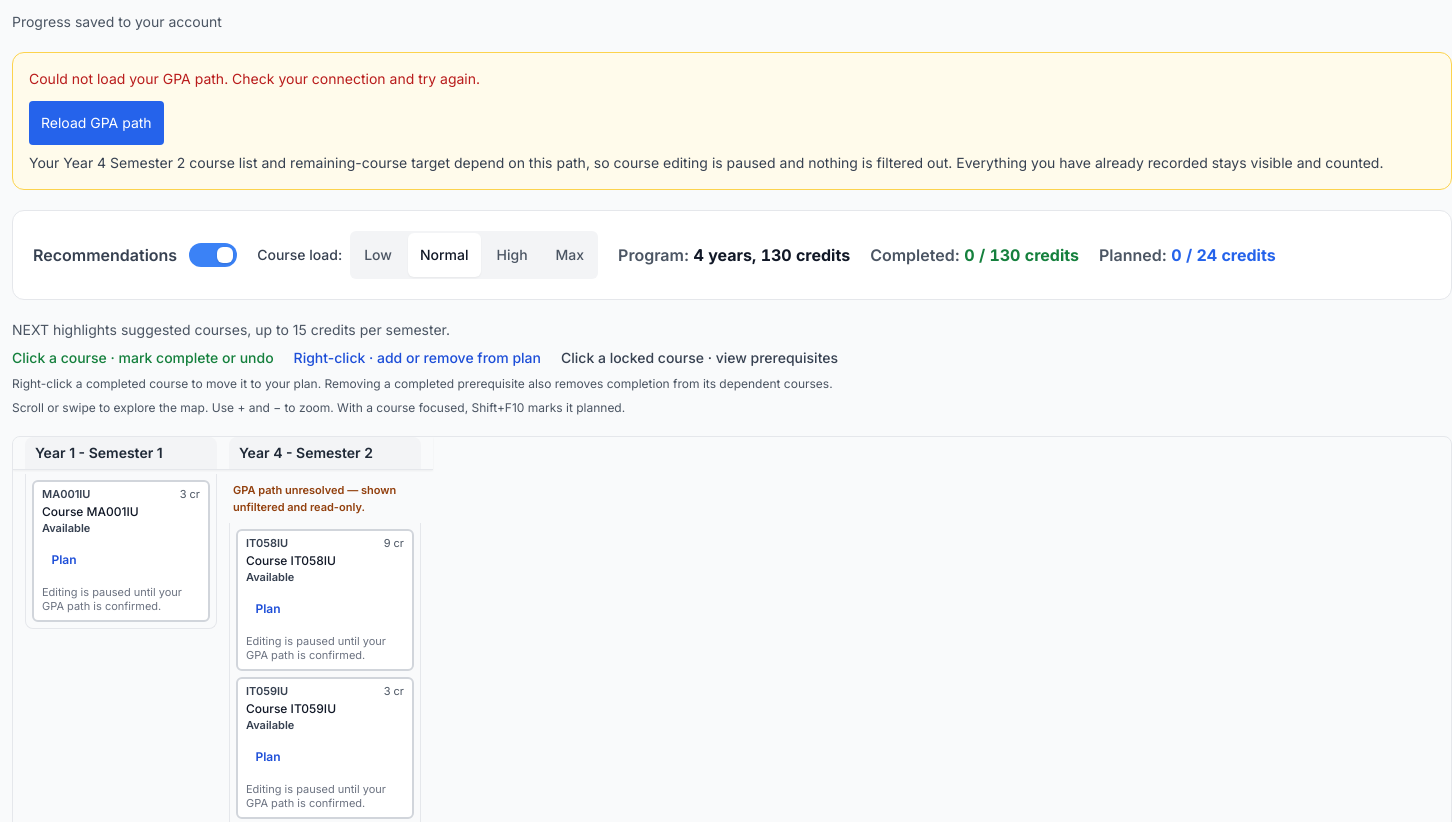
Test: server GPA policy in the curriculum map › requires a successful GPA reload after failure before allowing edits
This screenshot has width=1452, height=822.
Expected: the message "Could not load your GPA path. Check your connection and try again." is shown, x1=29 y1=70 x2=480 y2=87
Expected: the text "MA001IU" is shown, x1=42 y1=488 x2=90 y2=502
Click the button "Reload GPA path" at (96, 123), box x1=29 y1=101 x2=164 y2=145
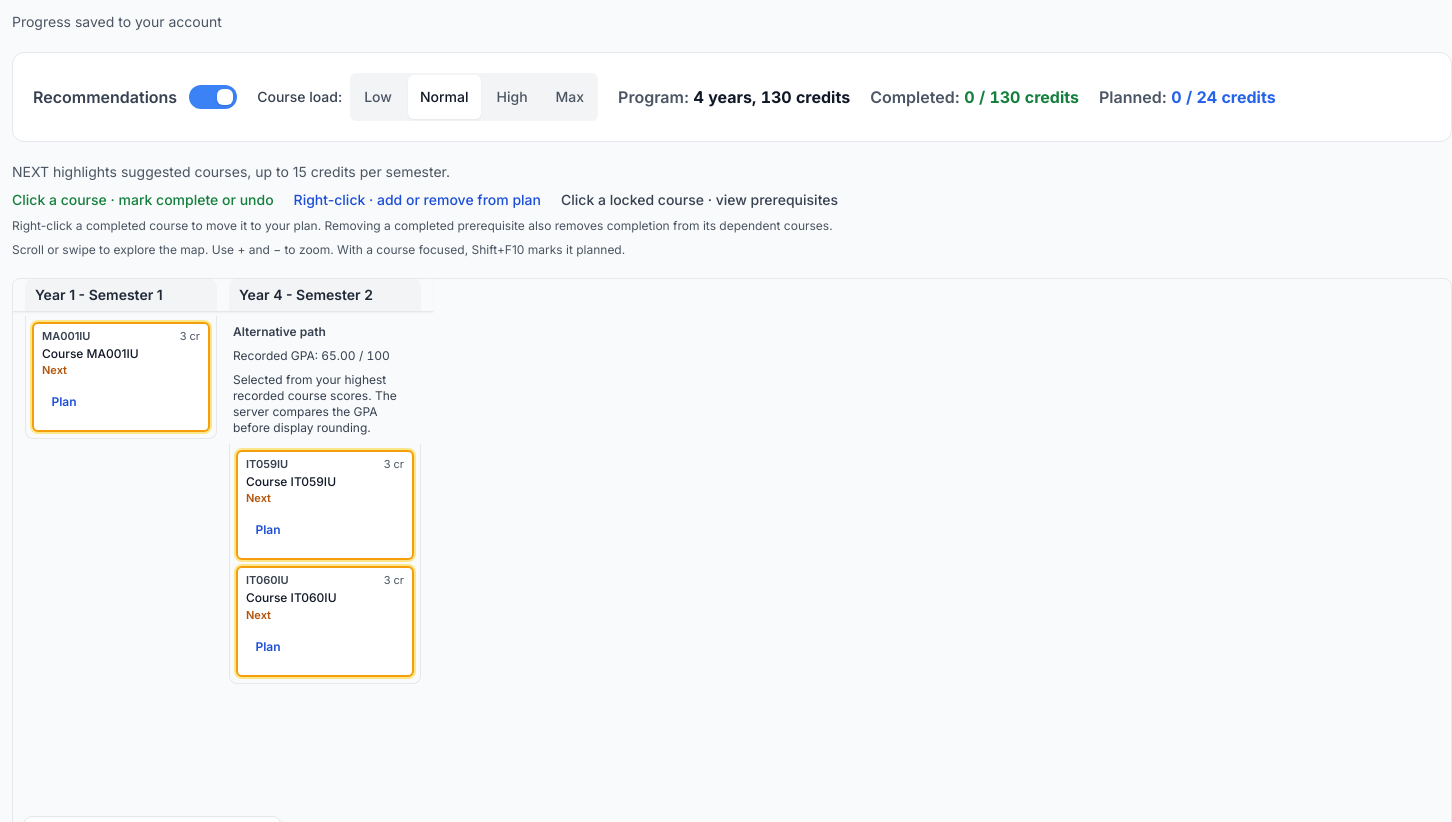
Expected: the text "Alternative path" is shown, x1=233 y1=324 x2=326 y2=339
Expected: the button "MA001IU 3 cr Course MA001IU Next" is enabled, x1=42 y1=330 x2=200 y2=378
Expected: the button "IT058IU" is gone
